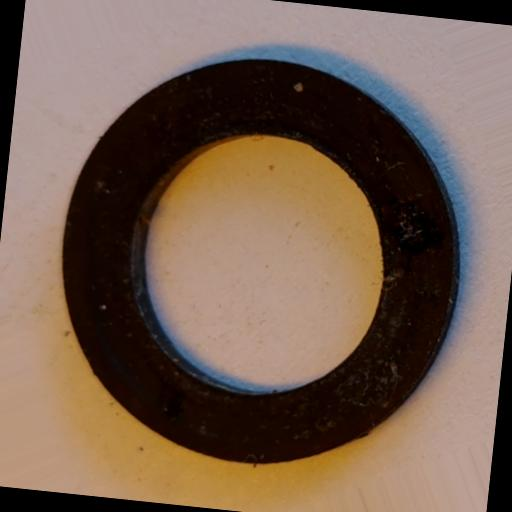defect: (384, 200, 444, 265), (154, 384, 186, 421)
